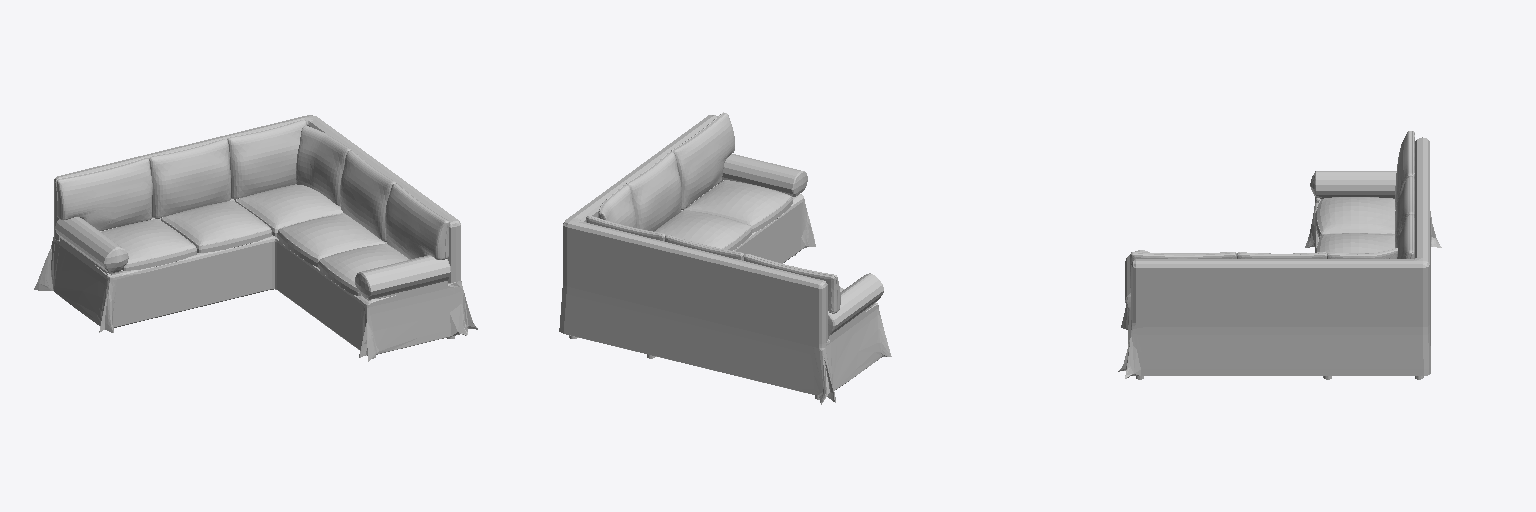
The model's file is models.obj.
3 views of the same model, side by side, from view 1: azimuth 30°, elevation 25°; view 2: azimuth 150°, elevation 25°; view 3: azimuth 270°, elevation 25° (orthographic).
Parts seen in each view (by area): view 1: Box01, Rectangle05, Rectangle03, Rectangle19, Box11, Rectangle20, Box13, Rectangle21, Box08, Box14, Rectangle22, Box12; view 2: Box01, Rectangle20, Box12, Rectangle21, Box13, Rectangle22, Rectangle05, Rectangle03, Rectangle19; view 3: Box01, Box08, Box11, Rectangle05, Rectangle03, Rectangle20, Rectangle19, Rectangle21.
Boxes of the visible parts, x1,y1,x2,y2 form: Box01: [34, 115, 477, 361]; Rectangle05: [56, 158, 152, 230]; Rectangle03: [148, 138, 230, 218]; Rectangle19: [227, 119, 306, 199]; Box11: [161, 201, 271, 252]; Rectangle20: [385, 183, 449, 259]; Box13: [277, 214, 385, 266]; Rectangle21: [340, 150, 395, 241]; Box08: [101, 219, 196, 270]; Box14: [235, 184, 343, 236]; Rectangle22: [296, 126, 350, 206]; Box12: [318, 244, 408, 295]; Box01: [559, 115, 891, 404]; Rectangle20: [671, 112, 734, 209]; Box12: [684, 180, 792, 232]; Rectangle21: [626, 152, 681, 231]; Box13: [654, 210, 751, 250]; Rectangle22: [598, 184, 636, 227]; Rectangle05: [744, 254, 840, 313]; Rectangle03: [665, 235, 743, 260]; Rectangle19: [586, 216, 665, 241]; Box01: [1118, 137, 1441, 378]; Box08: [1316, 197, 1395, 237]; Box11: [1316, 233, 1394, 252]; Rectangle05: [1395, 131, 1414, 209]; Rectangle03: [1395, 176, 1414, 247]; Rectangle20: [1130, 252, 1236, 287]; Rectangle19: [1396, 214, 1414, 258]; Rectangle21: [1237, 252, 1326, 258].
Bounding box in the file's own units: 2384 × 955 × 2305.